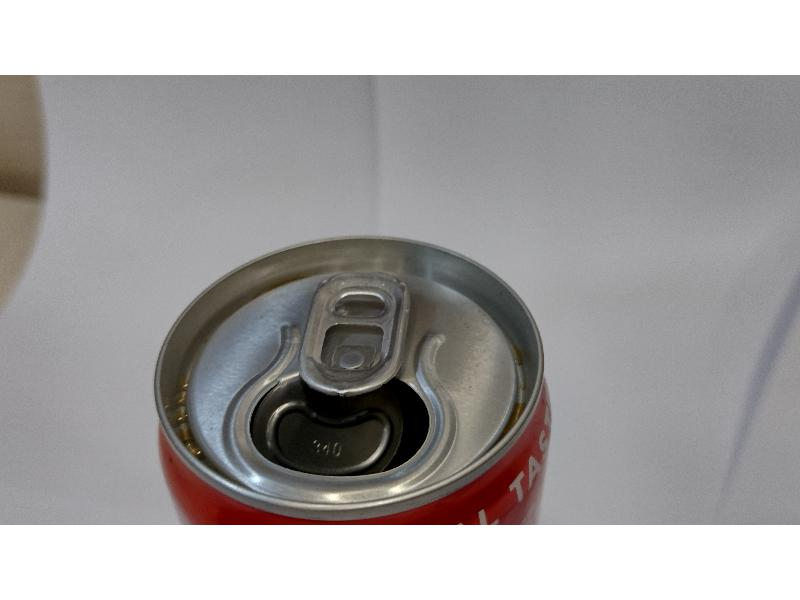can: (144, 228, 561, 522)
